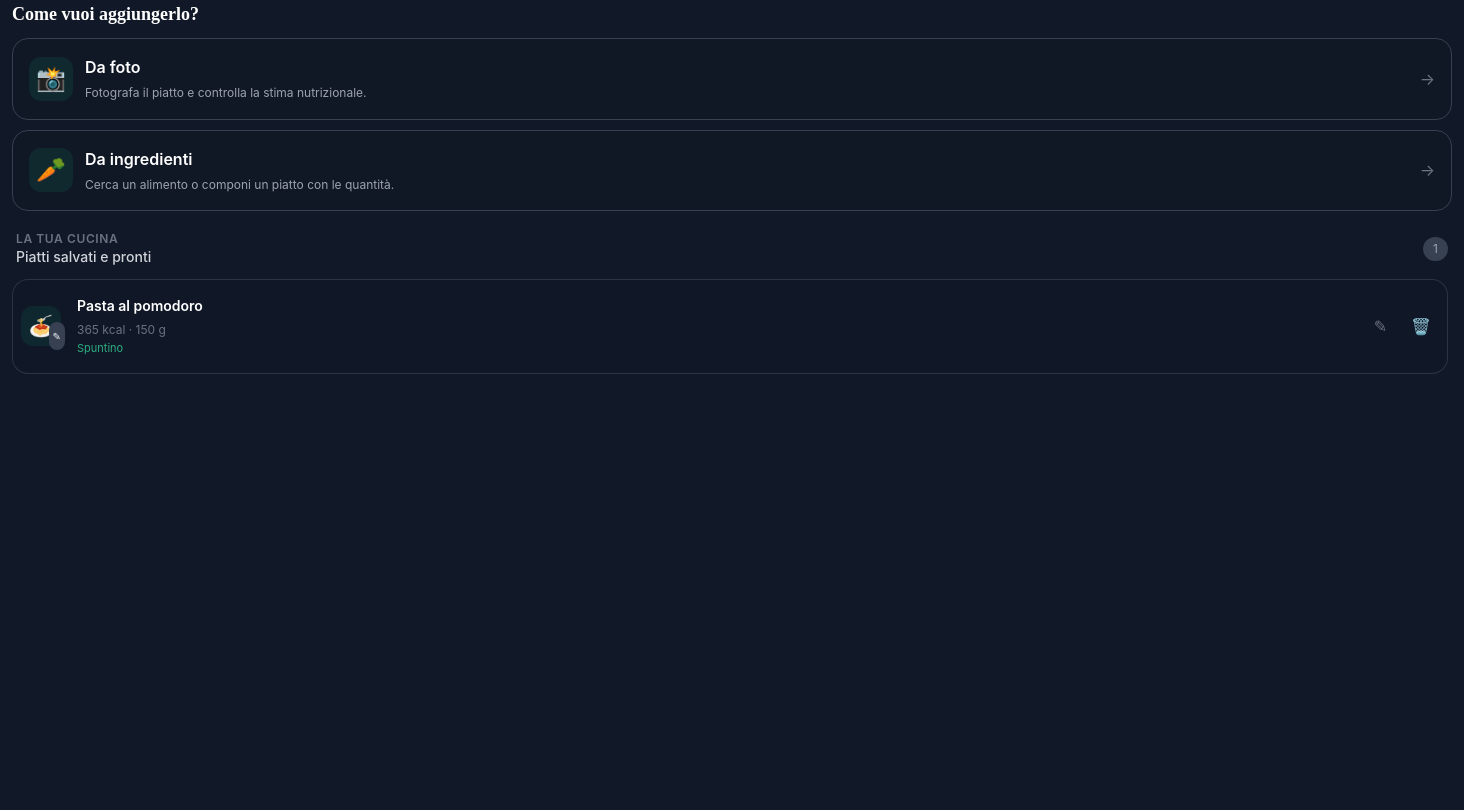
Test case: saved dish meal flow › changes ingredient quantities only for the current entry
Click the button "Pasta al pomodoro 365 kcal · 150 g Spuntino" at [140, 306], box x1=69 y1=288 x2=1358 y2=364
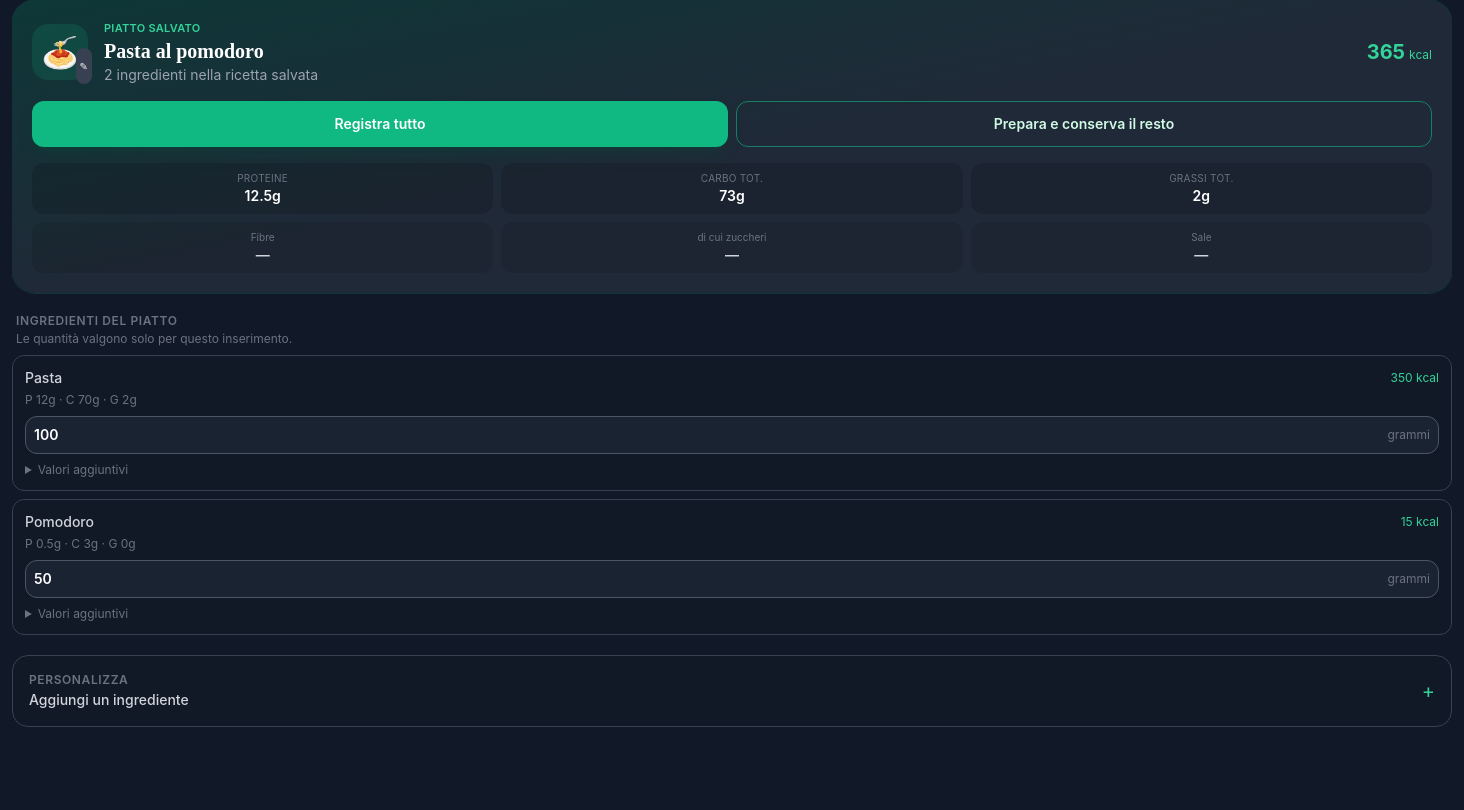
Replace the text in the number field named "Quantità di Pasta" with "80.126" at [703, 434], box x1=26 y1=416 x2=1380 y2=452
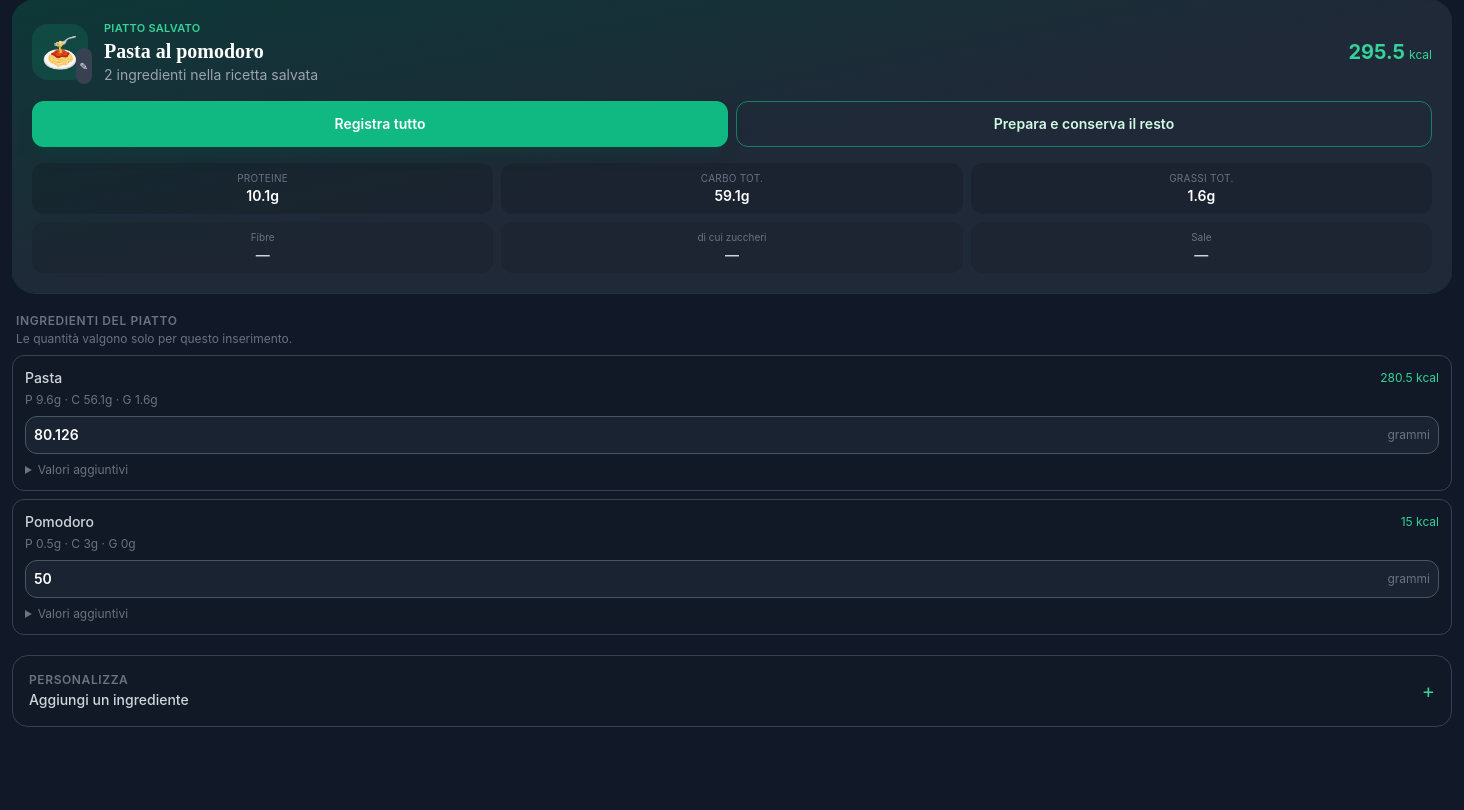
Check: the number field named "Quantità di Pomodoro" holds "50", box x1=26 y1=560 x2=1380 y2=596
Click the button "Registra tutto" at [380, 124], box x1=32 y1=100 x2=728 y2=146
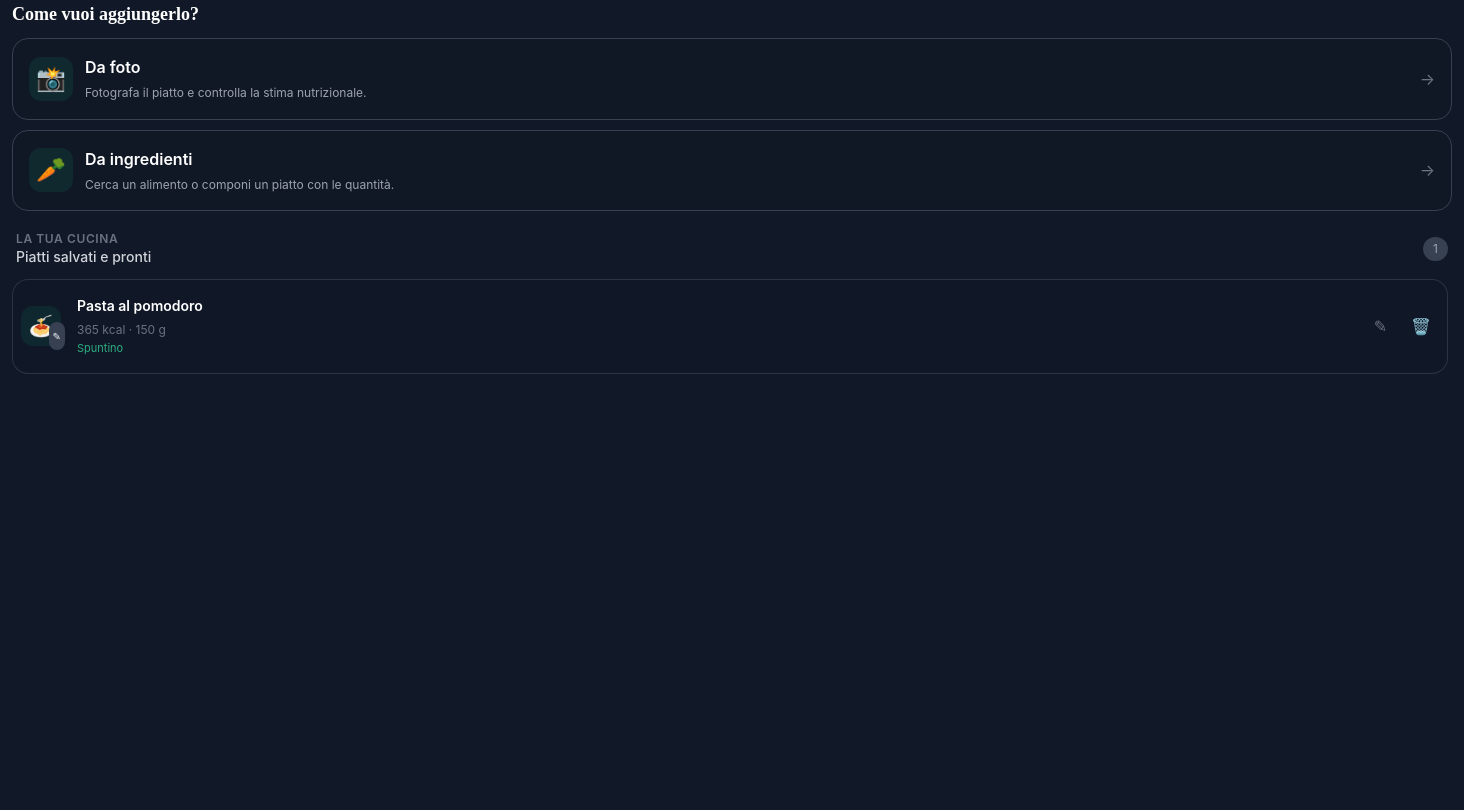
Click the button "Pasta al pomodoro 365 kcal · 150 g Spuntino" at [140, 306], box x1=69 y1=288 x2=1358 y2=364
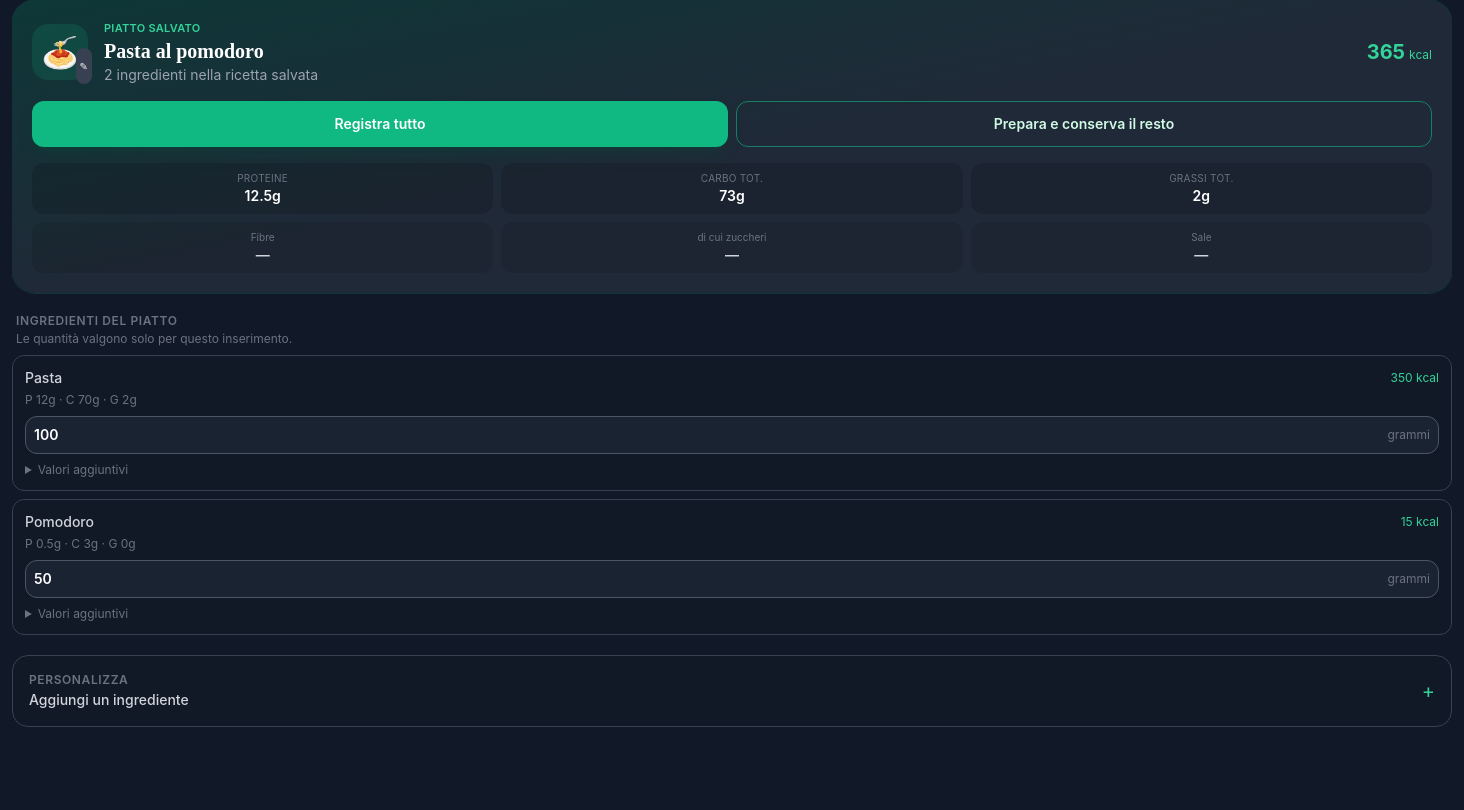
Check: the number field named "Quantità di Pasta" holds "100", box x1=26 y1=416 x2=1380 y2=452
